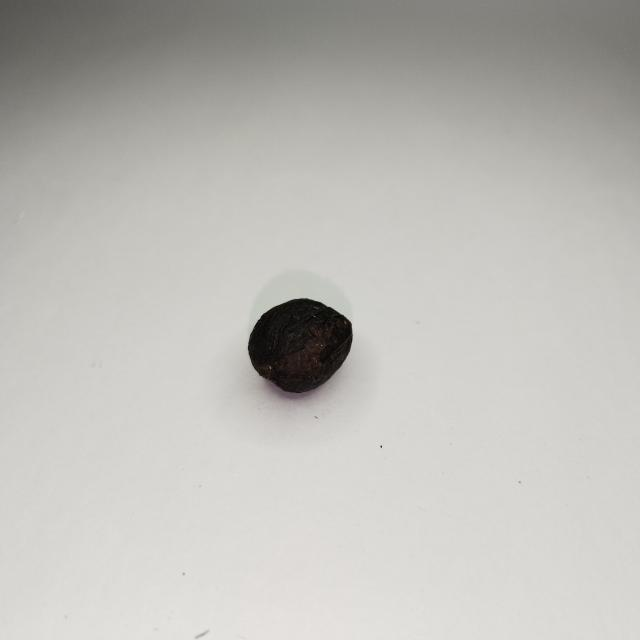Danado: (247, 295, 356, 398)
